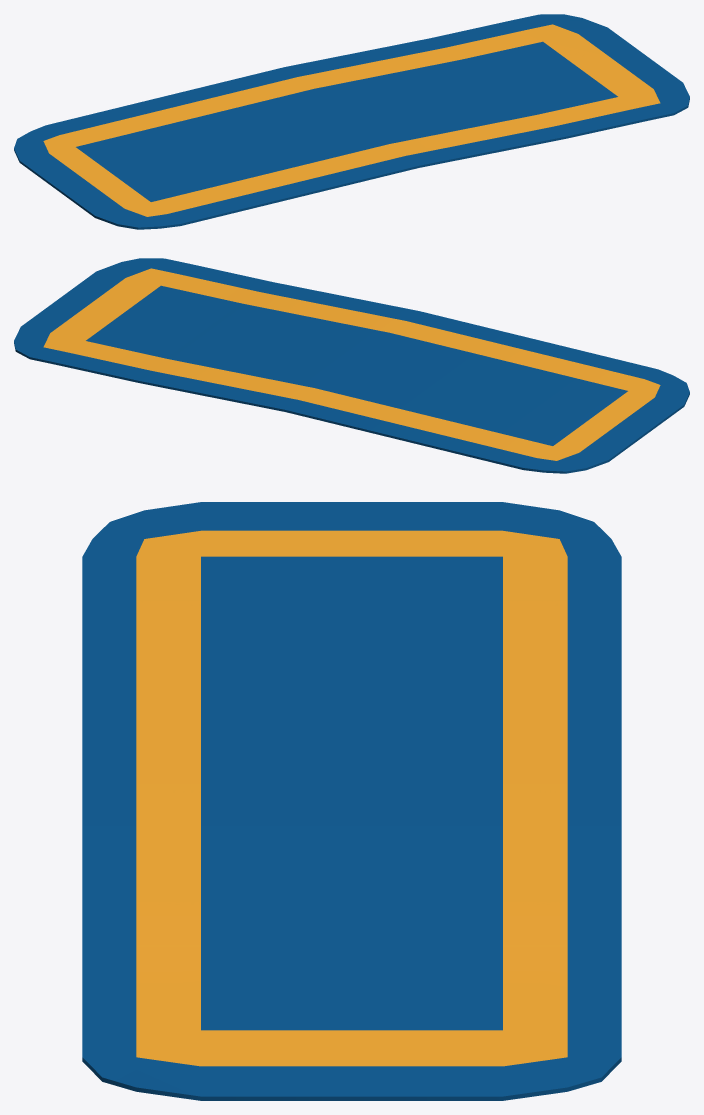
Rendered from geo_SinkingCarpet.fbx.
3 views of the same model, one above another, from view 1: azimuth 30°, elevation 25°; view 2: azimuth 150°, elevation 25°; view 3: azimuth 270°, elevation 25° (orthographic). The views are drawn at different scales.
Visible parts, largest first — view 1: pCube149; view 2: pCube149; view 3: pCube149.
Part boxes in pixels (box(x1,y1,x2,y2)): pCube149: box(14, 14, 689, 229); pCube149: box(14, 258, 689, 473); pCube149: box(82, 502, 621, 1100).
Size of the model in its own units: 283 by 5.73 by 112.
1 material, 1 textured.
